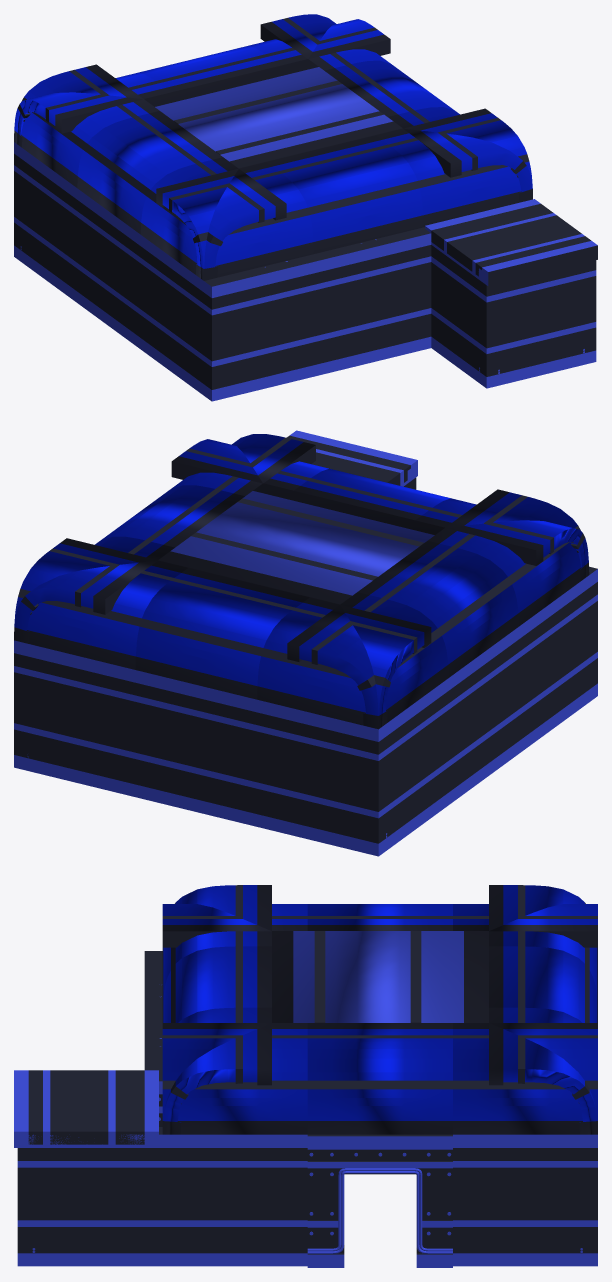
The model's file is Kitchen Collection.fbx.
3 views of the same model, one above another, from view 1: azimuth 30°, elevation 25°; view 2: azimuth 150°, elevation 25°; view 3: azimuth 270°, elevation 25° (orthographic). The views are drawn at different scales.
Visible parts, largest first — view 1: Kitchen.485, Kitchen.351, Kitchen.318, Kitchen.689, Kitchen, Kitchen.834, Kitchen.631, Kitchen.805, Kitchen.747, Kitchen.385, Kitchen.419, Kitchen.660 (+11 smaller); view 2: Kitchen.485, Kitchen.098, Kitchen.067, Kitchen.034, Kitchen.544, Kitchen.602, Kitchen.805, Kitchen.486, Kitchen.385, Kitchen.419, Kitchen.573, Kitchen.452 (+9 smaller); view 3: Kitchen.485, Kitchen.232, Kitchen.198, Kitchen.265, Kitchen.776, Kitchen.718, Kitchen.515, Kitchen.119, Kitchen.834, Kitchen.689, Kitchen.544, Kitchen.747 (+12 smaller).
Boxes of the visible parts, x1,y1,x2,y2 form: Kitchen.485: (144, 59, 402, 168); Kitchen.351: (204, 254, 321, 401); Kitchen.318: (314, 227, 431, 374); Kitchen.689: (266, 135, 423, 253); Kitchen: (478, 263, 585, 388); Kitchen.834: (425, 199, 597, 286); Kitchen.631: (156, 162, 313, 280); Kitchen.805: (77, 111, 222, 234); Kitchen.747: (376, 108, 532, 227); Kitchen.385: (145, 238, 219, 398); Kitchen.419: (82, 192, 145, 352); Kitchen.660: (140, 157, 286, 280); Kitchen.485: (158, 483, 444, 604); Kitchen.098: (257, 699, 387, 856); Kitchen.067: (135, 670, 256, 826); Kitchen.034: (14, 640, 135, 796); Kitchen.544: (135, 568, 309, 699); Kitchen.602: (257, 597, 431, 728); Kitchen.805: (358, 540, 518, 677); Kitchen.486: (14, 538, 187, 669); Kitchen.385: (524, 572, 594, 749); Kitchen.419: (454, 623, 524, 800); Kitchen.573: (287, 592, 448, 729); Kitchen.452: (385, 674, 453, 849); Kitchen.485: (272, 931, 488, 1022); Kitchen.232: (162, 1134, 307, 1266); Kitchen.198: (453, 1134, 583, 1266); Kitchen.265: (17, 1127, 162, 1266); Kitchen.776: (307, 1023, 452, 1134); Kitchen.718: (162, 1023, 307, 1134); Kitchen.515: (453, 1023, 597, 1134); Kitchen.119: (307, 1134, 452, 1267); Kitchen.834: (14, 1070, 158, 1147); Kitchen.689: (162, 946, 271, 1022); Kitchen.544: (489, 946, 597, 1022); Kitchen.747: (162, 1007, 271, 1134).
Bounding box in the file's own units: 605 × 301 × 805.
